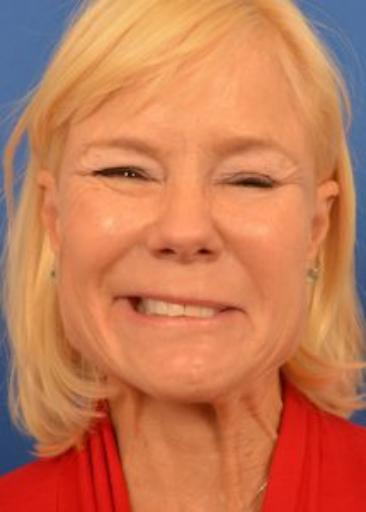left_eye: (222, 173, 279, 191)
left_lip_corner: (230, 302, 248, 318)
right_eye: (89, 162, 159, 188)
right_lip_corner: (112, 290, 134, 306)
